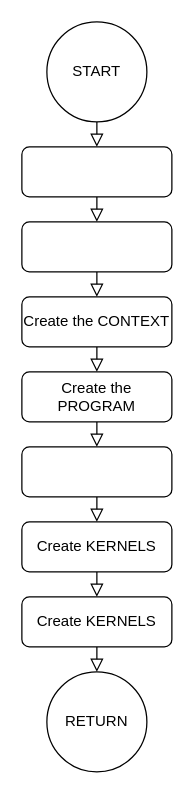
The diagram is 194 pixels wide and 794 high, and some of its shapes have lost their labels. Each missing label, with the centre of its shape:
Build the PROGRAM: (x=96, y=471)
Get OPENCL PLATFORM: (x=96, y=171)
Query the available OPENCL Devices: (x=96, y=246)
